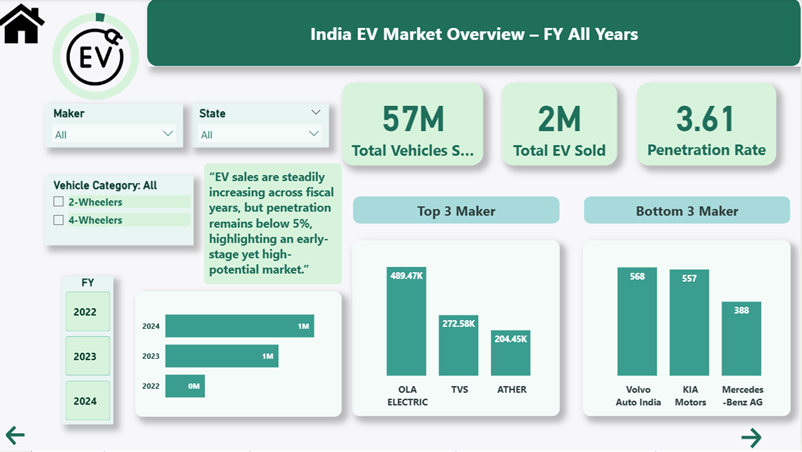

The dashboard page shown, as its layout file describes it:
{"tool":"powerbi","page":{"name":"Executive Overview","canvas":[1280,720],"ordinal":1},"visuals":[{"type":"shape","box":[238.1,0,1041.3,107.7],"z":0},{"type":"card","fields":{"Values":["electric_vehicle_sales_by_state.Total Vehicles Sold"]},"box":[548,134.2,224.9,132.3],"z":1000},{"type":"card","fields":{"Values":["electric_vehicle_sales_by_makers.Total EV Sold"]},"box":[803.2,134.2,183.3,132.3],"z":2000},{"type":"card","fields":{"Values":["electric_vehicle_sales_by_state.Penetration Rate"]},"box":[1018,134,222,132],"z":3000},{"type":"columnChart","title":"Top 3 Makers","fields":{"Y":["Sum(electric_vehicle_sales_by_makers.electric_vehicles_sold)"],"Category":["electric_vehicle_sales_by_makers.maker"]},"box":[565,385.5,330.7,279.7],"z":4000},{"type":"columnChart","title":"Bottom 3 Makers","fields":{"Y":["Sum(electric_vehicle_sales_by_makers.electric_vehicles_sold)"],"Category":["electric_vehicle_sales_by_makers.maker"]},"box":[931.7,385.5,330.7,279.7],"z":5000},{"type":"shape","box":[566.9,315.6,328.8,43.5],"z":6000},{"type":"shape","box":[933.6,315.6,328.8,43.5],"z":7000},{"type":"slicer","fields":{"Values":["dim_vehicle_category.vehicle category"]},"box":[75.6,281.6,236.2,111.5],"z":8000},{"type":"image","box":[103.9,47.2,103.9,90.7],"z":9000},{"type":"donutChart","fields":{"Y":["electric_vehicle_sales_by_state.total EV sold_states","electric_vehicle_sales_by_state.Total Vehicles Sold"]},"box":[34,0,245.7,183.3],"z":10000},{"type":"barChart","title":"EV Sales","fields":{"Category":["electric_vehicle_sales_by_makers.vehicle_category","dim_date.fiscal_year"],"Y":["electric_vehicle_sales_by_makers.fiscal year sales"]},"box":[219.2,466.8,328.8,200.3],"z":11000},{"type":"slicer","fields":{"Values":["electric_vehicle_sales_by_state.state"]},"box":[308,166.3,219.2,69.9],"z":12000},{"type":"textbox","box":[328.8,262.7,219.2,192.8],"z":13000},{"type":"actionButton","box":[1179.2,678.4,100.2,41.6],"z":14000},{"type":"advancedSlicerVisual","title":"FY","fields":{"Values":["dim_date.fiscal_year"]},"box":[103.9,442.2,81.3,236.2],"z":15000},{"type":"slicer","fields":{"Values":["electric_vehicle_sales_by_state.state"]},"box":[75.6,166.3,219.2,69.9],"z":16000},{"type":"actionButton","box":[9.4,676.5,100.2,39.7],"z":17000},{"type":"image","box":[0,0,76,78],"z":18000}]}

Visuals, with their boxes in screenshot pixels (x1, y1, x2, y2), scaled from the page's 1280x720 canvas onto the 802x452 screenshot:
shape: left=149, top=0, right=801, bottom=68
card - electric_vehicle_sales_by_state.Total Vehicles Sold: left=343, top=84, right=484, bottom=167
card - electric_vehicle_sales_by_makers.Total EV Sold: left=503, top=84, right=618, bottom=167
card - electric_vehicle_sales_by_state.Penetration Rate: left=638, top=84, right=777, bottom=167
"Top 3 Makers" columnChart: left=354, top=242, right=561, bottom=418
"Bottom 3 Makers" columnChart: left=584, top=242, right=791, bottom=418
shape: left=355, top=198, right=561, bottom=225
shape: left=585, top=198, right=791, bottom=225
slicer - dim_vehicle_category.vehicle category: left=47, top=177, right=195, bottom=247
image: left=65, top=30, right=130, bottom=87
donutChart - electric_vehicle_sales_by_state.total EV sold_states x electric_vehicle_sales_by_state.Total Vehicles Sold: left=21, top=0, right=175, bottom=115
"EV Sales" barChart: left=137, top=293, right=343, bottom=419
slicer - electric_vehicle_sales_by_state.state: left=193, top=104, right=330, bottom=148
textbox: left=206, top=165, right=343, bottom=286
actionButton: left=739, top=426, right=801, bottom=451
"FY" advancedSlicerVisual: left=65, top=278, right=116, bottom=426
slicer - electric_vehicle_sales_by_state.state: left=47, top=104, right=185, bottom=148
actionButton: left=6, top=425, right=69, bottom=450
image: left=0, top=0, right=48, bottom=49
